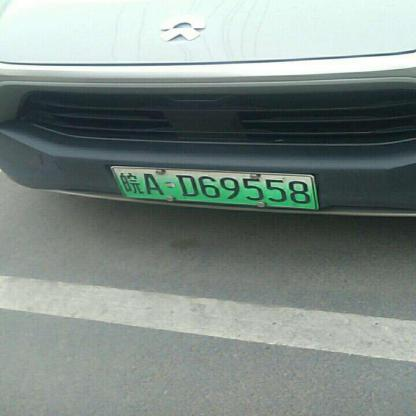lp: (115, 168, 318, 208)
